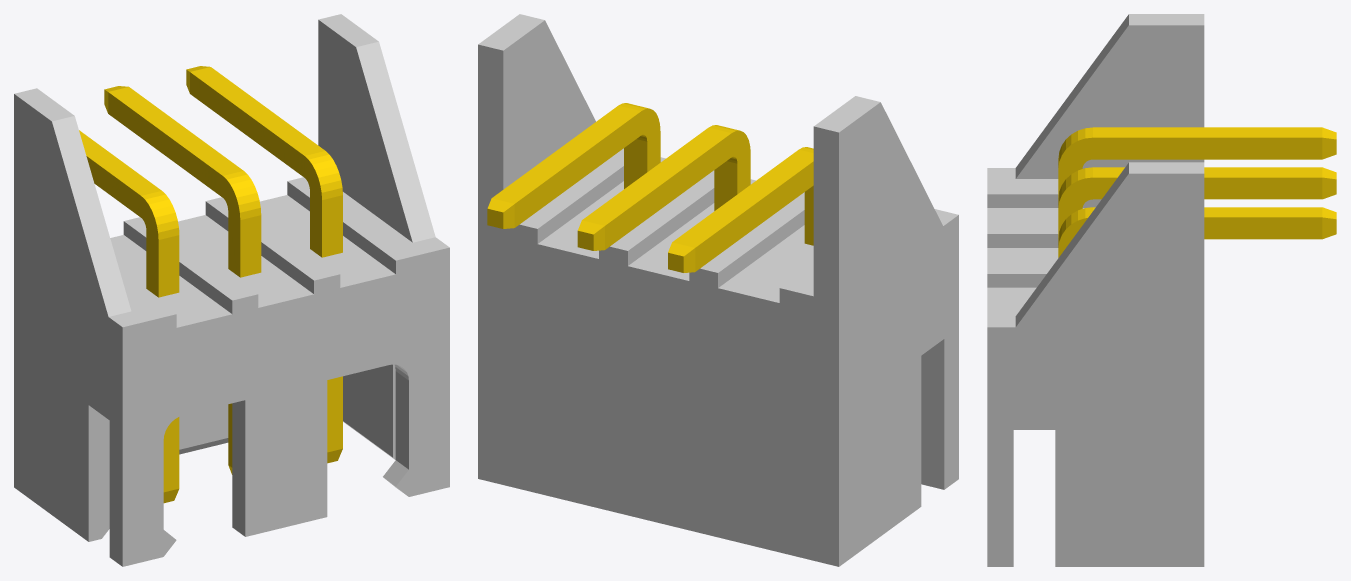
File: DS1069-3 CWF-3R.obj
3 renders of one model, left to right at view 1: azimuth 30°, elevation 25°; view 2: azimuth 150°, elevation 25°; view 3: azimuth 270°, elevation 25°, orthographic. The views are drawn at different scales.
Parts seen in each view (by area): view 1: DS1069-3_CWF-3R; view 2: DS1069-3_CWF-3R; view 3: DS1069-3_CWF-3R.
Boxes of the visible parts, x1=… form: DS1069-3_CWF-3R: x1=14, y1=14, x2=449, y2=566; DS1069-3_CWF-3R: x1=478, y1=14, x2=958, y2=566; DS1069-3_CWF-3R: x1=987, y1=14, x2=1336, y2=566.
Size of the model in its own units: 0.0134 by 0.0154 by 0.0124.
